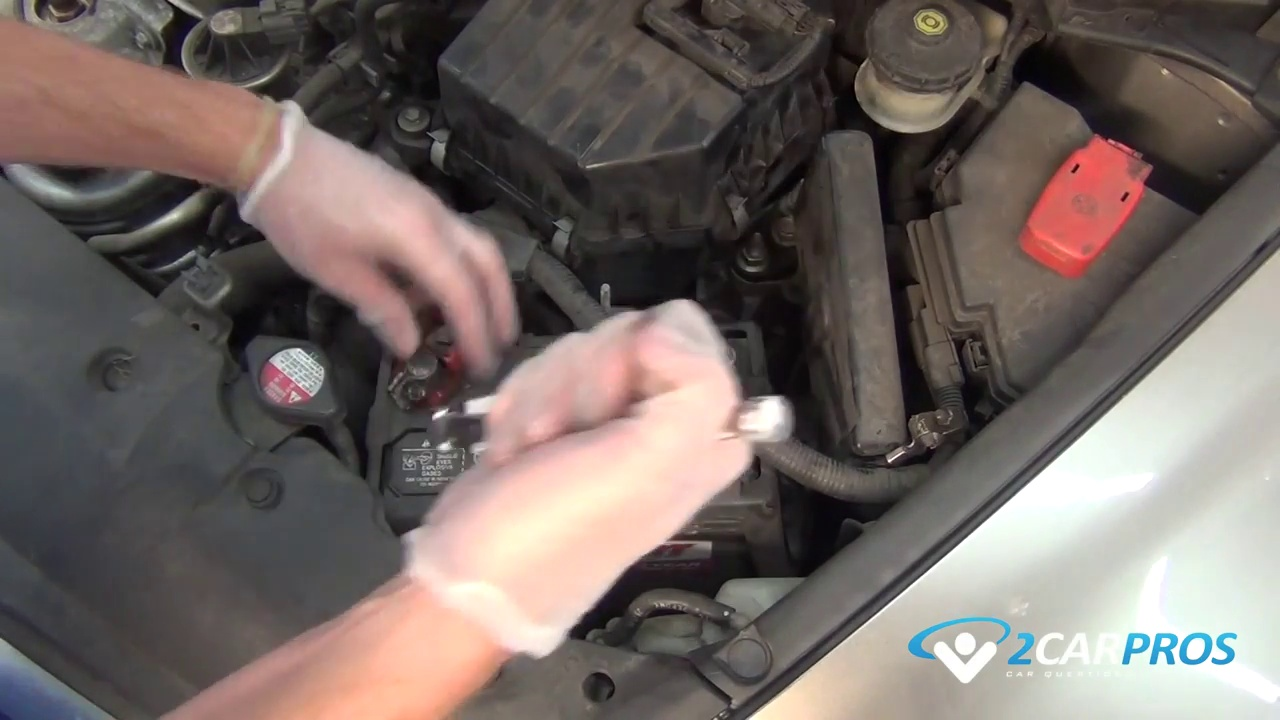battery: (358, 325, 772, 527)
pos_touched: (345, 260, 483, 407)
